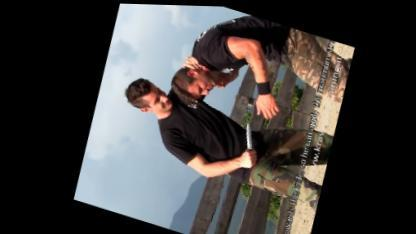knife: (230, 116, 266, 169)
